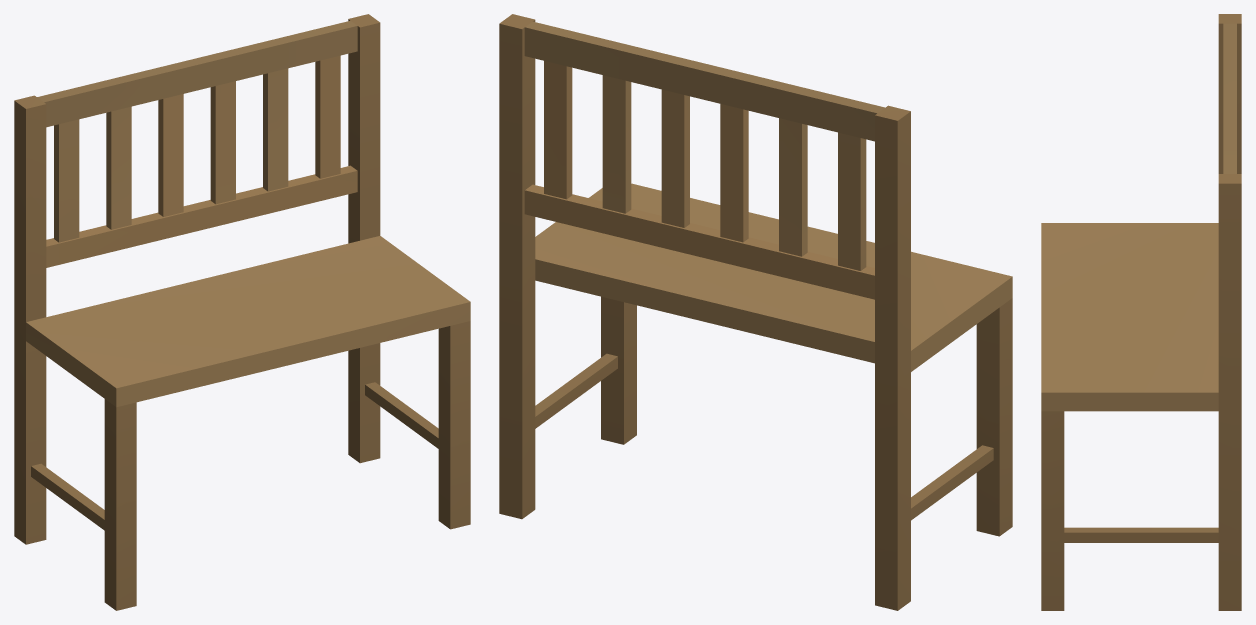
The model's file is seat.bench.slatted.glb.
3 renders of one model, left to right at view 1: azimuth 30°, elevation 25°; view 2: azimuth 150°, elevation 25°; view 3: azimuth 270°, elevation 25°, orthographic. The views are drawn at different scales.
Parts seen in each view (by area): view 1: seat_bench_slatted; view 2: seat_bench_slatted; view 3: seat_bench_slatted.
Boxes of the visible parts, x1,y1,x2,y2 form: seat_bench_slatted: (14, 14, 470, 610); seat_bench_slatted: (499, 14, 1012, 610); seat_bench_slatted: (1041, 14, 1241, 610).
Size of what is drawn, in the model's own units: 0.783 by 0.92 by 0.391.
